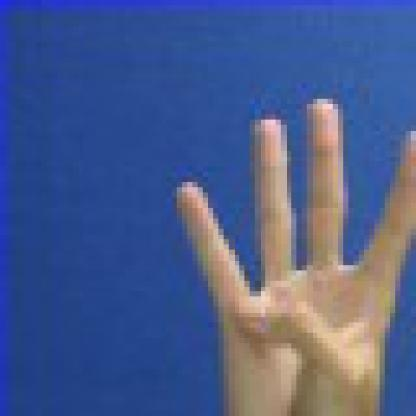four: (166, 78, 411, 411)
